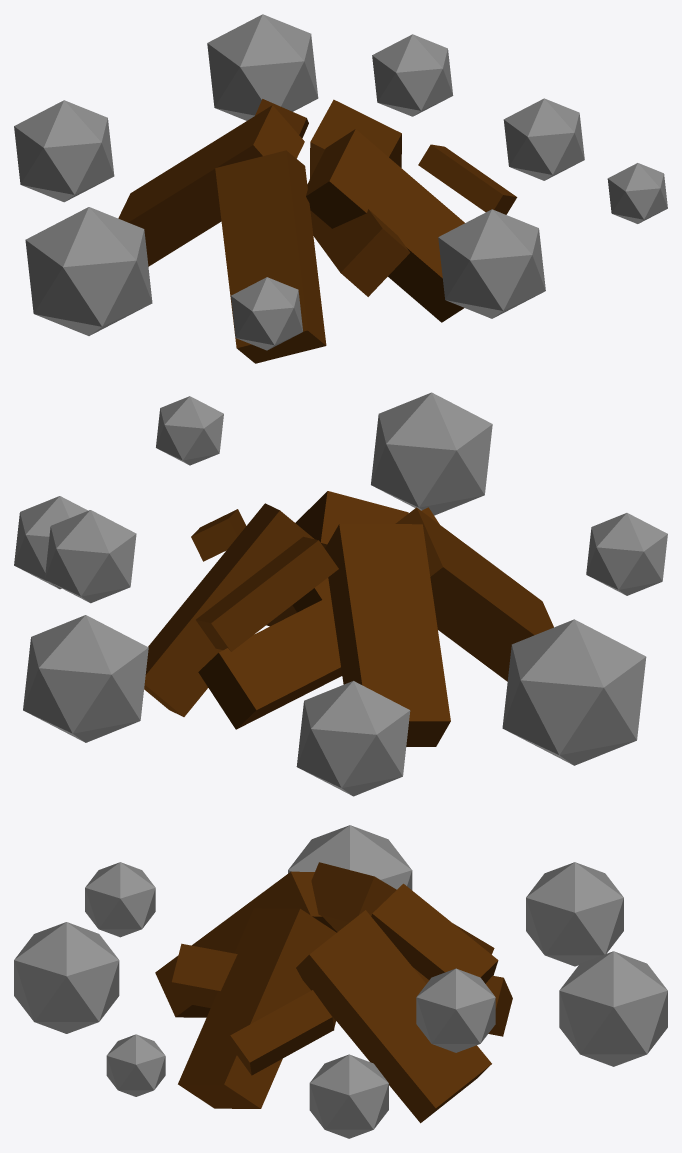
The model's file is bonfire.fbx.
3 views of the same model, one above another, from view 1: azimuth 30°, elevation 25°; view 2: azimuth 150°, elevation 25°; view 3: azimuth 270°, elevation 25° (orthographic). The views are drawn at different scales.
Visible parts, largest first — view 1: Cube.003, Cube.002, Icosphere.003, Cube, Icosphere.001, Icosphere.005, Icosphere.004, Icosphere.007, Icosphere.006, Cube.004, Icosphere.002, Cube.006 (+3 smaller); view 2: Cube, Icosphere.003, Icosphere.005, Icosphere.001, Cube.003, Cube.005, Cube.001, Icosphere.004, Cube.007, Icosphere.007, Icosphere.002, Icosphere (+4 smaller); view 3: Cube.001, Cube.002, Icosphere.005, Icosphere.001, Icosphere.004, Cube.007, Icosphere.006, Icosphere.007, Cube.006, Cube.003, Icosphere.003, Icosphere.002 (+4 smaller).
Boxes of the visible parts, x1,y1,x2,y2 form: Cube.003: [215, 150, 326, 363]; Cube.002: [306, 129, 464, 322]; Icosphere.003: [25, 207, 152, 335]; Cube: [118, 105, 304, 266]; Icosphere.001: [438, 209, 545, 318]; Icosphere.005: [207, 14, 318, 120]; Icosphere.004: [14, 100, 114, 202]; Icosphere.007: [372, 34, 453, 116]; Icosphere.006: [503, 98, 584, 180]; Cube.004: [310, 209, 409, 296]; Icosphere.002: [231, 277, 302, 350]; Cube.006: [418, 144, 517, 214]; Cube: [325, 524, 450, 746]; Icosphere.003: [502, 619, 646, 765]; Icosphere.005: [23, 615, 148, 742]; Icosphere.001: [371, 392, 492, 515]; Cube.003: [395, 507, 553, 681]; Cube.005: [198, 595, 342, 729]; Cube.001: [144, 503, 314, 716]; Icosphere.004: [296, 681, 410, 796]; Cube.007: [196, 536, 338, 651]; Icosphere.007: [44, 510, 136, 603]; Icosphere.002: [586, 513, 667, 595]; Icosphere: [156, 396, 223, 465]; Cube.001: [296, 910, 491, 1123]; Cube.002: [178, 908, 336, 1108]; Icosphere.005: [559, 951, 667, 1066]; Icosphere.001: [14, 922, 119, 1033]; Icosphere.004: [526, 862, 623, 966]; Cube.007: [371, 883, 498, 983]; Icosphere.006: [309, 1054, 388, 1138]; Icosphere.007: [416, 968, 495, 1052]; Cube.006: [230, 990, 334, 1075]; Cube.003: [155, 871, 337, 1017]; Icosphere.003: [288, 825, 412, 889]; Icosphere.002: [85, 862, 155, 937].
Bounding box in the file's own units: 183 × 58.58 × 186.
